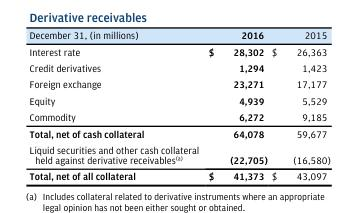table: (28, 29, 330, 181)
table column: (28, 29, 203, 181), (203, 29, 268, 181), (268, 29, 330, 181)
table column header: (28, 29, 330, 43)
table row: (28, 141, 330, 168), (28, 75, 330, 92), (28, 108, 330, 125), (28, 43, 330, 59), (28, 59, 330, 75), (28, 92, 330, 108), (28, 125, 330, 141), (28, 29, 330, 43), (28, 168, 330, 181)
